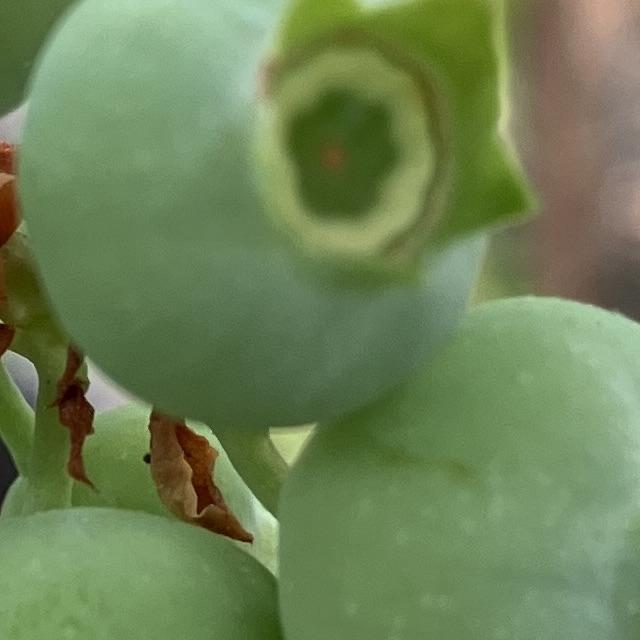Blueberries: (11, 0, 534, 432), (269, 289, 640, 640)
